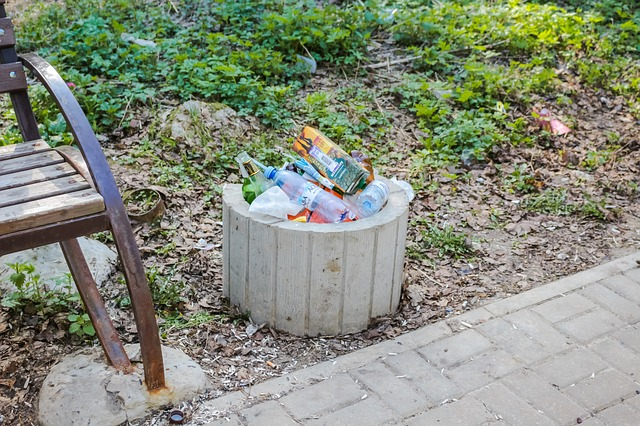plastic_bottle: (263, 161, 349, 228)
